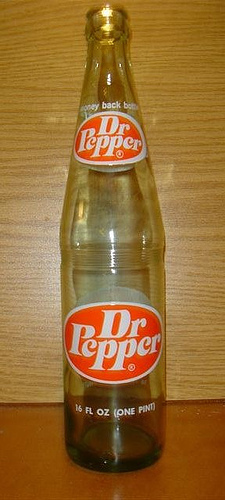emptybottle: (60, 5, 169, 474)
